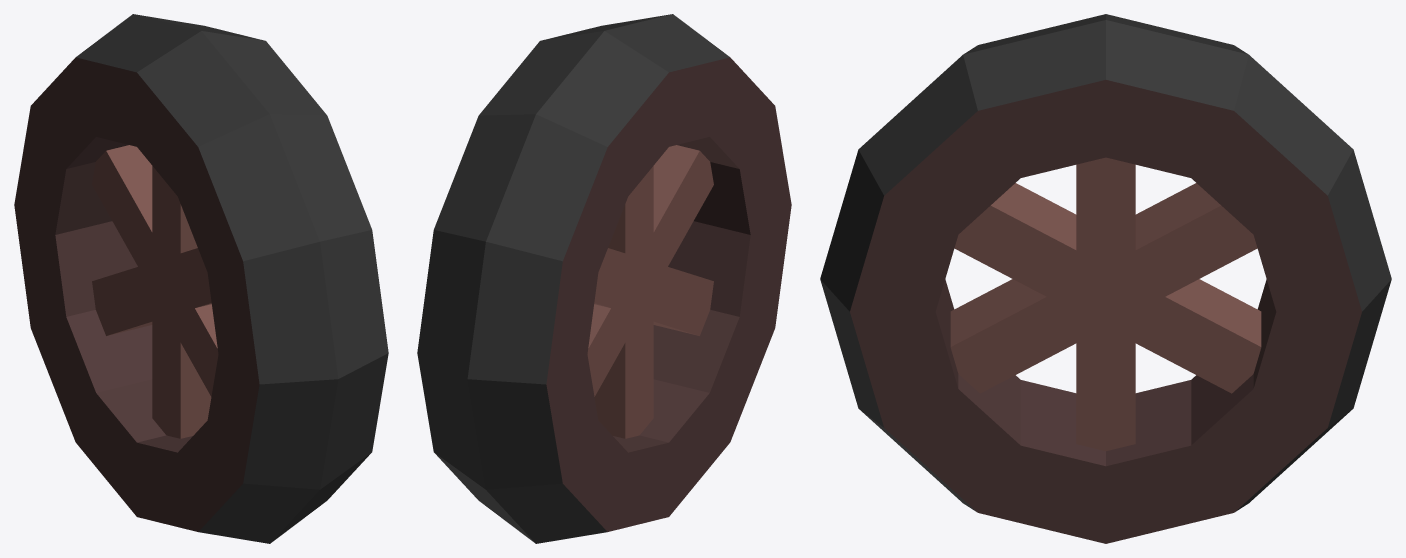
The model's file is DarkRoseWoodMechSmallLiftFrameWheel1.fbx.
3 views of the same model, side by side, from view 1: azimuth 30°, elevation 25°; view 2: azimuth 150°, elevation 25°; view 3: azimuth 270°, elevation 25° (orthographic). The views are drawn at different scales.
Visible parts, largest first — view 1: DarkRoseWoodMechSmallLiftFrameWheel1; view 2: DarkRoseWoodMechSmallLiftFrameWheel1; view 3: DarkRoseWoodMechSmallLiftFrameWheel1.
Boxes of the visible parts, x1,y1,x2,y2 form: DarkRoseWoodMechSmallLiftFrameWheel1: (14, 14, 388, 543); DarkRoseWoodMechSmallLiftFrameWheel1: (417, 14, 791, 543); DarkRoseWoodMechSmallLiftFrameWheel1: (820, 14, 1391, 543).
Size of the model in its own units: 30.81 by 113 by 113.
